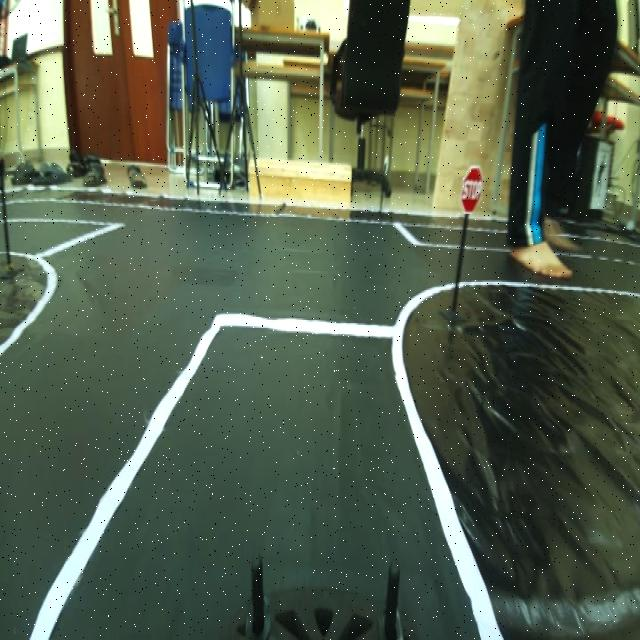stop: (457, 159, 486, 213)
